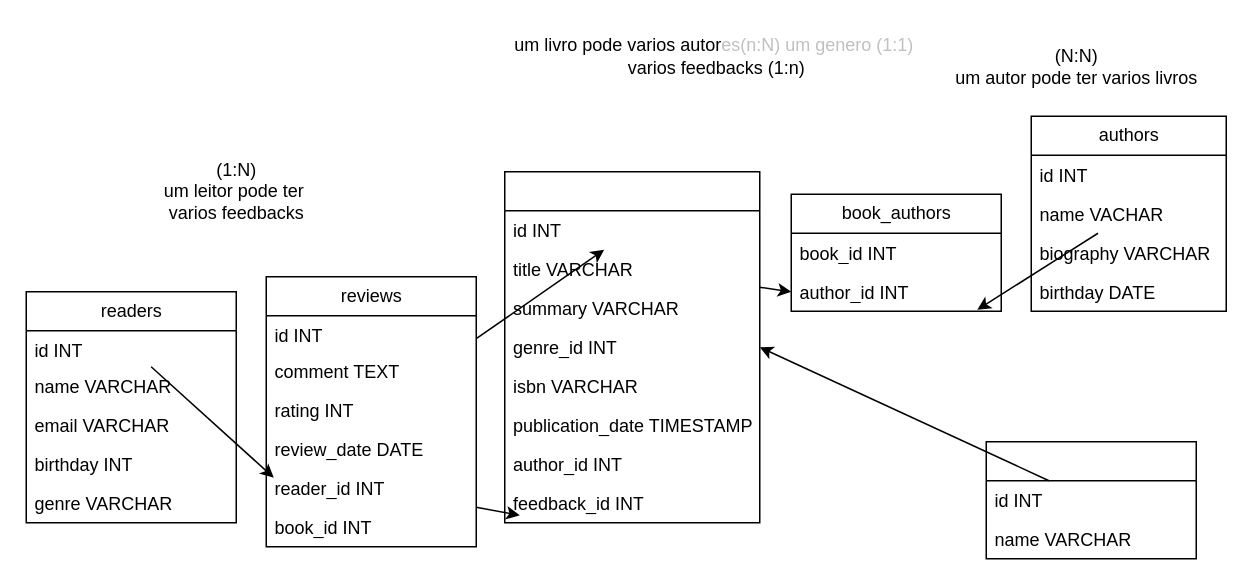
This 1253x588 diagram has some shape labels left out. The box of each missing label's shape, as (x1, y1, x2, y2) in pixels:
books: (503, 170, 760, 523)
genre: (985, 440, 1196, 559)
